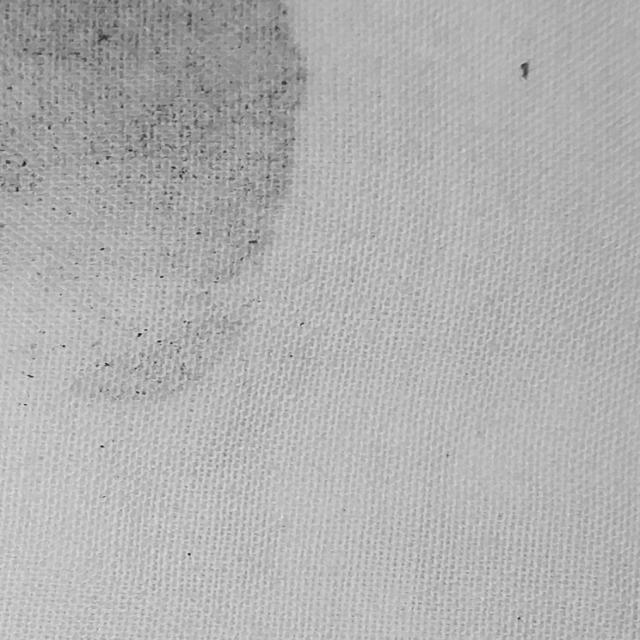Stain: (0, 0, 314, 407), (514, 56, 537, 84)
